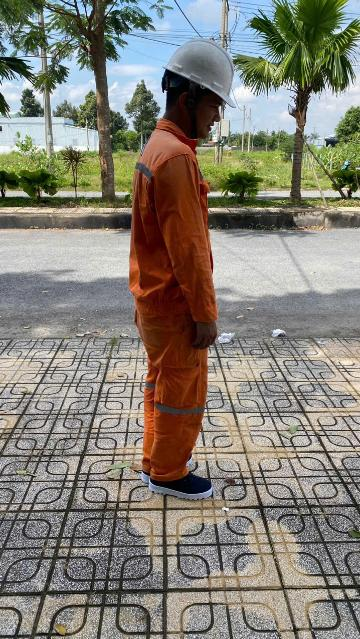helmet: (151, 27, 255, 119)
shoes: (141, 464, 211, 514), (129, 447, 202, 477)
